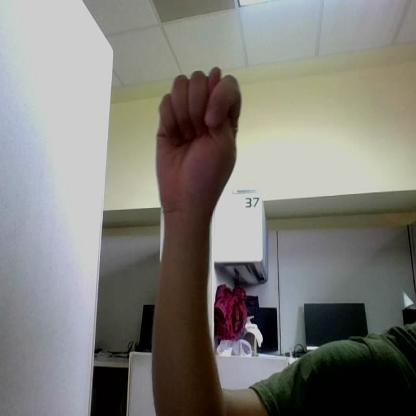T: (156, 68, 241, 195)
